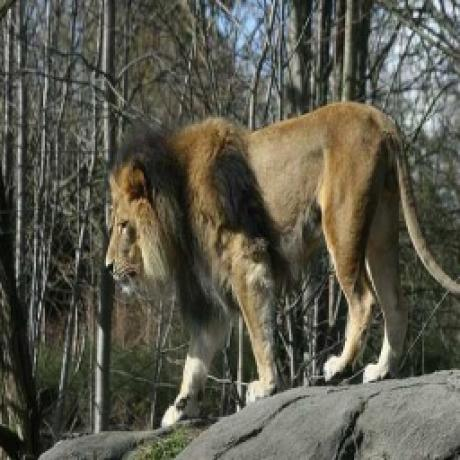Lion: (98, 93, 460, 383)
